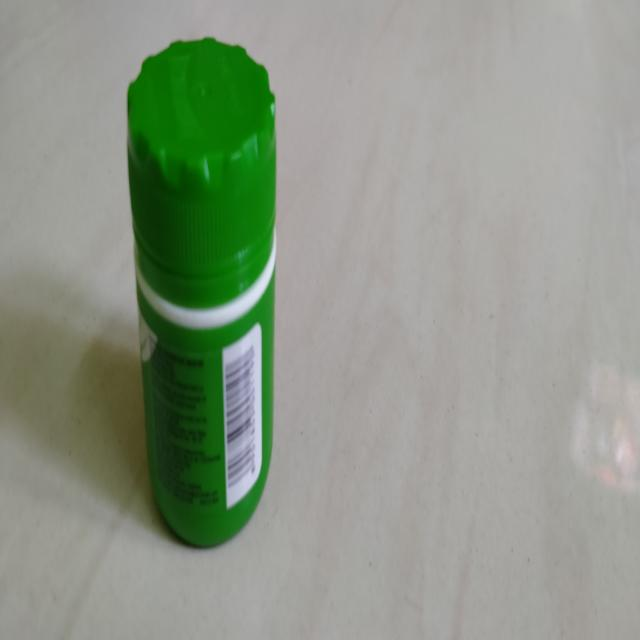eucalyptus oil: (131, 41, 272, 548)
